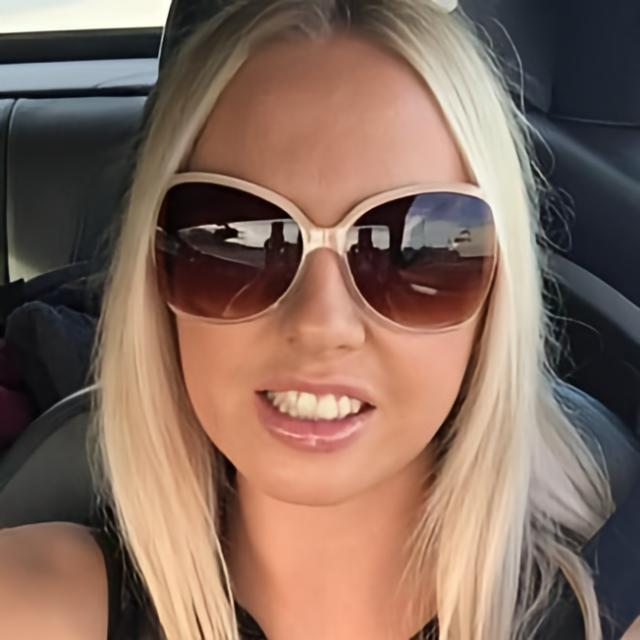disgust: (169, 24, 500, 508)
